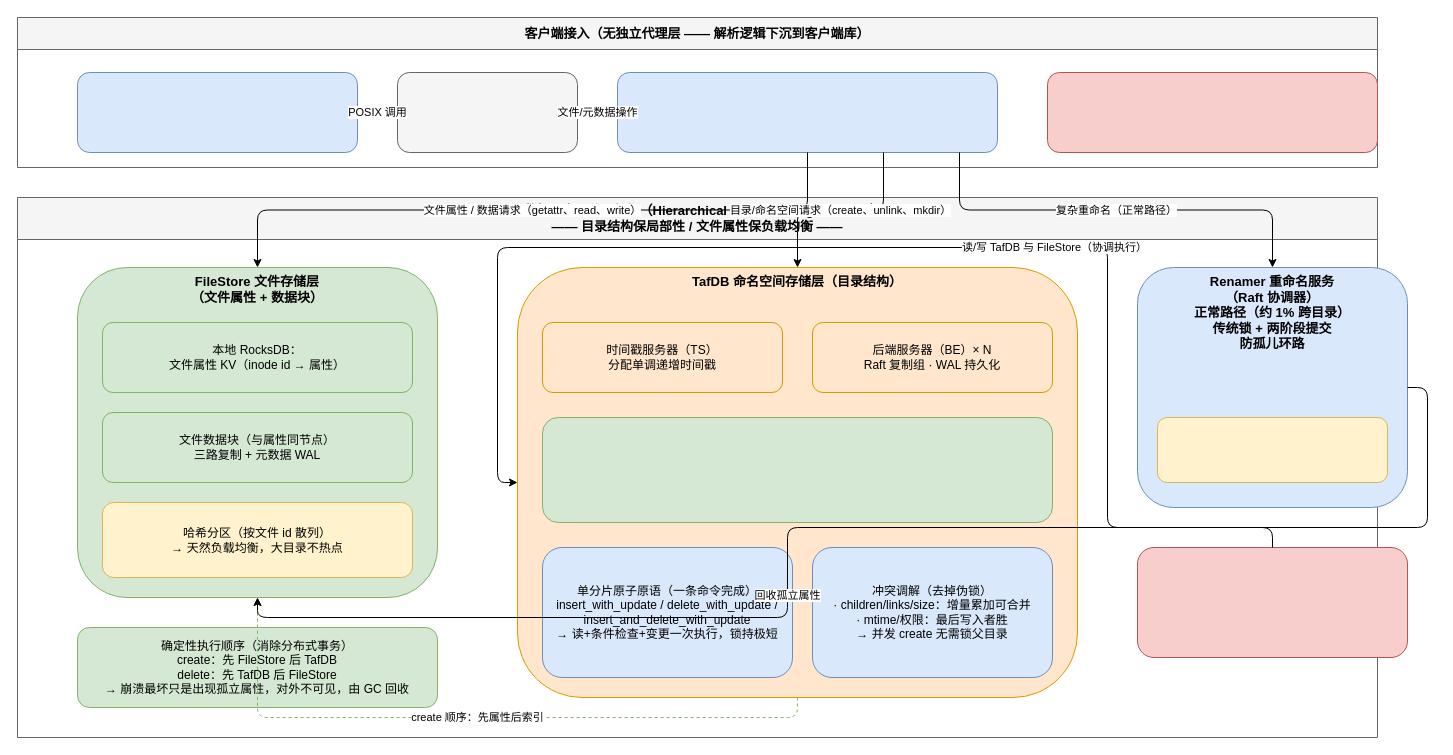
This 1453x755 diagram has some shape labels left out. The centre of each missing label's shape, as x and y in pixels:
"ClientLib（客户端元数据解析） 缓存 TafDB / FileStore 分区信息， 自己直接路由到对应分片 —— 无代理中转" belongs at point 807,112.
"inode_table 统一大表 范围分区（按父 inode id）： 目录属性 + 子文件 id 同片共置 → 局部性， 创建文件无需分布式事务" belongs at point 797,469.
"VFS 适配器（内核）" belongs at point 487,112.
"同目录重命名走快速路径： ClientLib 直连 TafDB 单分片原语" belongs at point 1272,449.
"后台垃圾回收（GC） 定期清理 FileStore 中 无 inode 引用的孤立属性记录" belongs at point 1272,602.
"局限：分区缓存需与集群规模变化同步； 跨数据中心时客户端复杂度与一致性风险上升" belongs at point 1212,112.
"应用程序（POSIX 接口） getattr / create / mkdir / rename / read / write" belongs at point 217,112.
